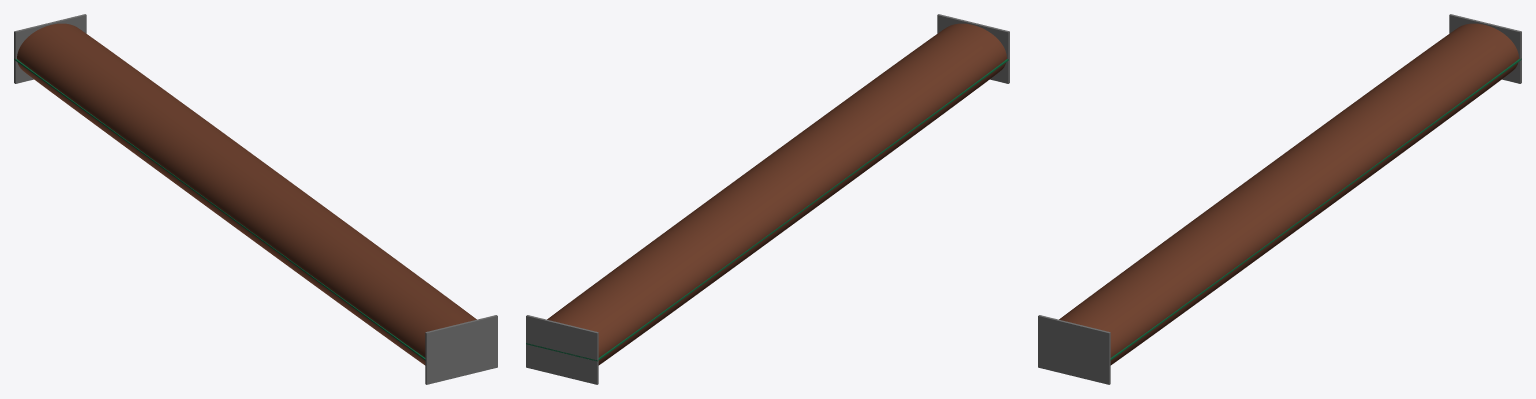
The model's file is GOODbackground.fbx.
The picture shows the model from 3 angles, left to right: view 1: azimuth 30°, elevation 25°; view 2: azimuth 150°, elevation 25°; view 3: azimuth 330°, elevation 25°; orthographic projection.
Parts seen in each view (by area): view 1: Cylinder, Cube.002, Cube, Cube.001; view 2: Cylinder, Cube.001, Cube, Cube.002; view 3: Cylinder, Cube.002, Cube, Cube.001.
Boxes of the visible parts, x1,y1,x2,y2 form: Cylinder: (17, 23, 476, 365); Cube.002: (425, 315, 497, 384); Cube: (14, 58, 425, 360); Cube.001: (14, 14, 86, 83); Cylinder: (547, 23, 1006, 365); Cube.001: (526, 315, 598, 384); Cube: (526, 59, 1008, 361); Cube.002: (937, 14, 1009, 83); Cylinder: (1059, 23, 1518, 365); Cube.002: (1038, 315, 1110, 384); Cube: (1110, 58, 1521, 360); Cube.001: (1449, 14, 1521, 83).
Size of the model in its own units: 6000 by 4178 by 60141.
